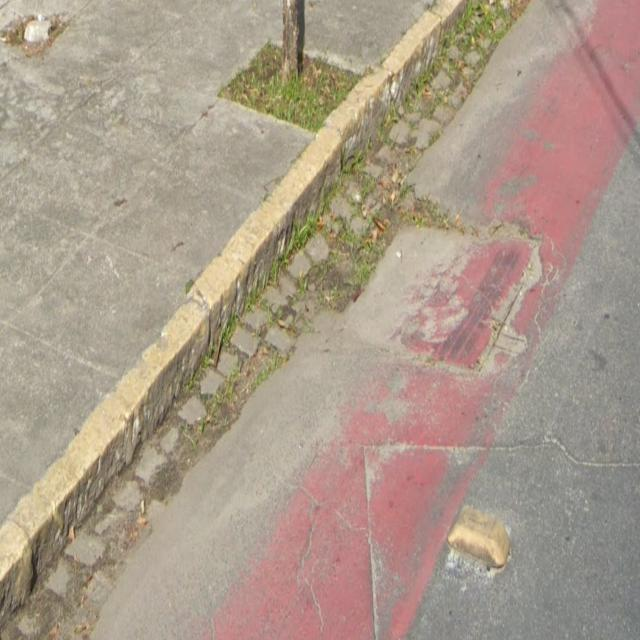Buraco: (345, 179, 550, 384)
